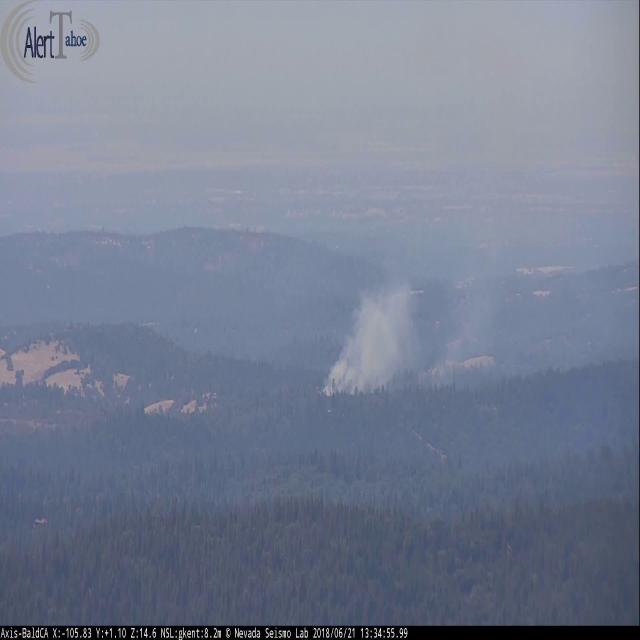smoke: (316, 268, 426, 406)
